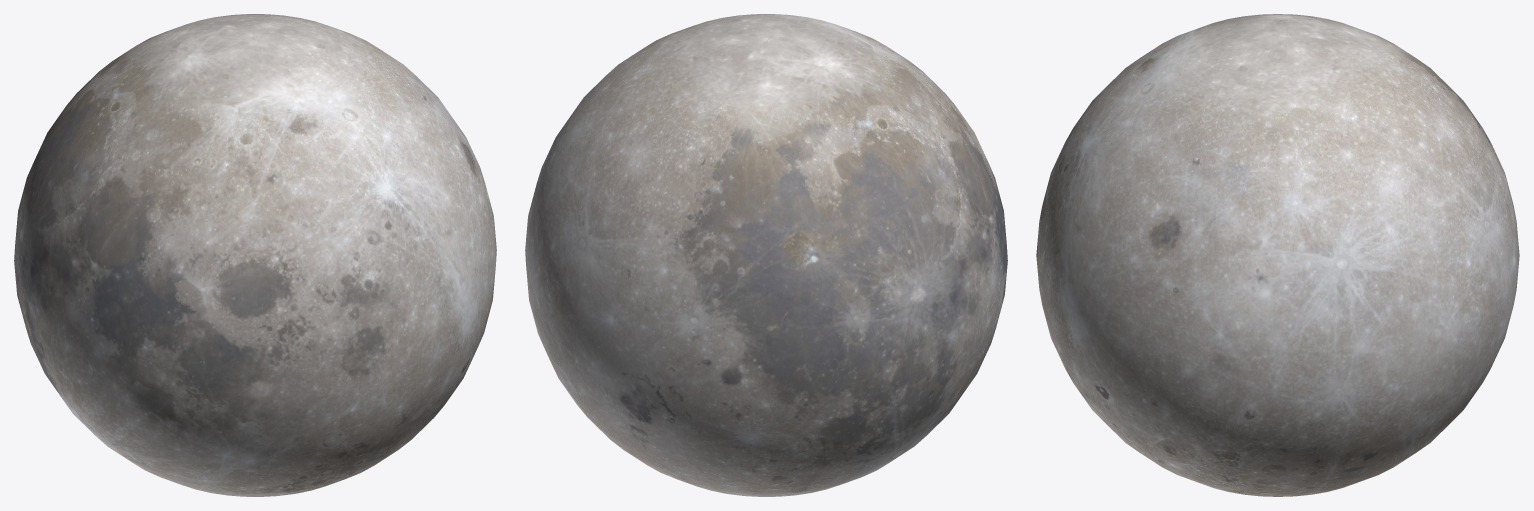
Rendered from moon.glb.
3 views of the same model, side by side, from view 1: azimuth 30°, elevation 25°; view 2: azimuth 150°, elevation 25°; view 3: azimuth 270°, elevation 25° (orthographic).
Size of the model in its own units: 2 by 2 by 2.
Materials: 1 (1 with a texture image).
